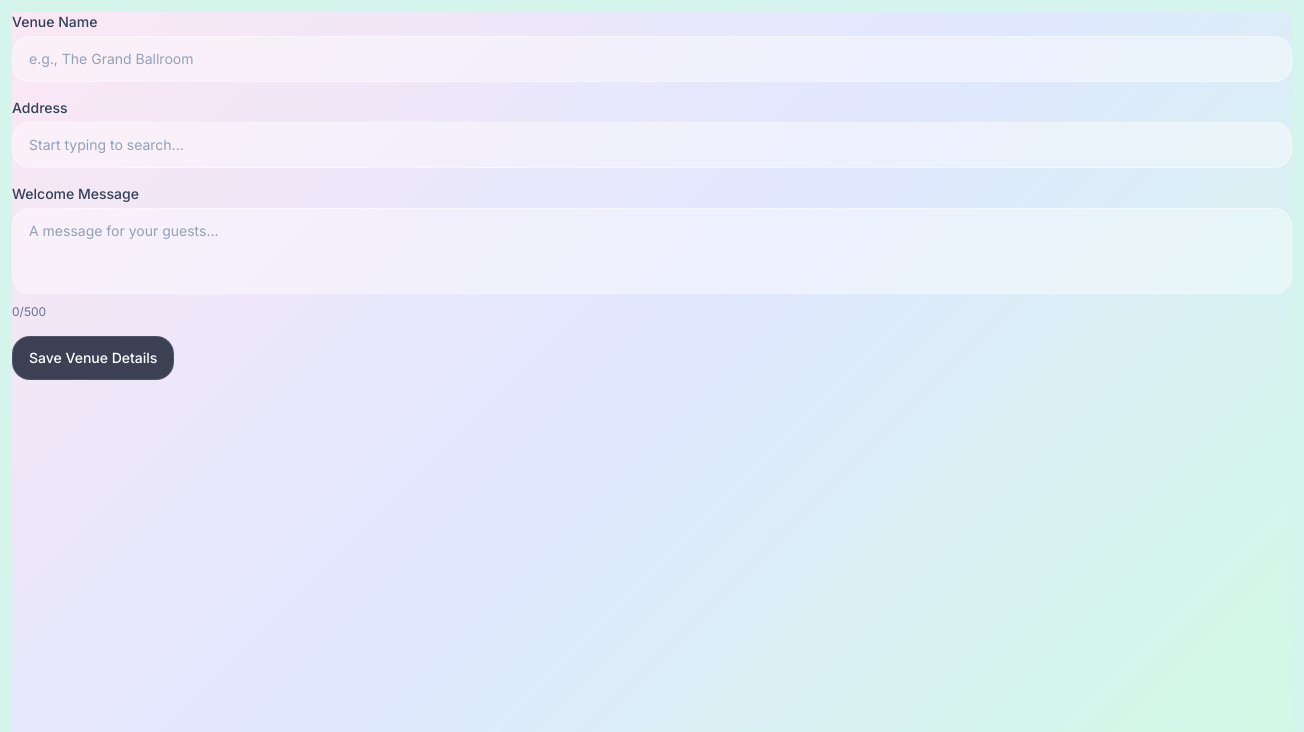
Test: VenueEditor › shows error message on failed save
Click the button "Save Venue Details" at coordinates (93, 358), box [12,336,174,380]
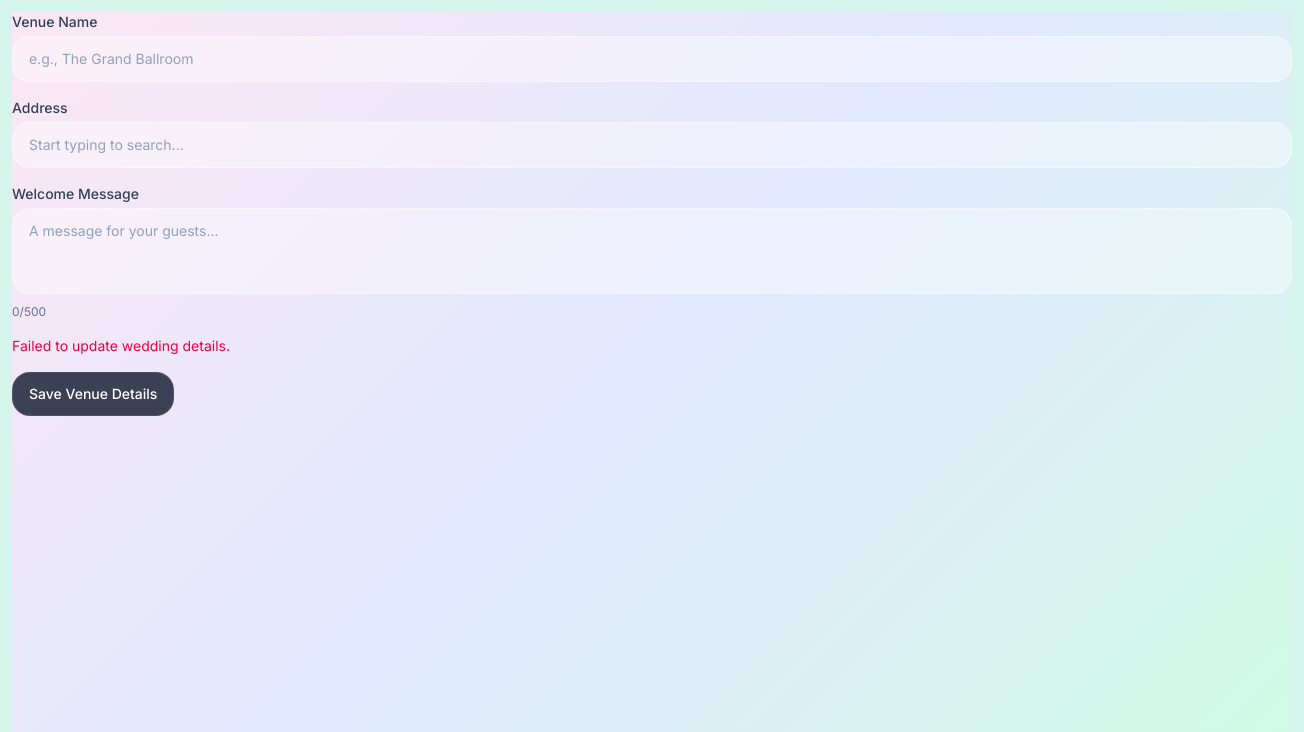
Expected: the text "Failed to update wedding details." is shown, [12,337,230,354]
